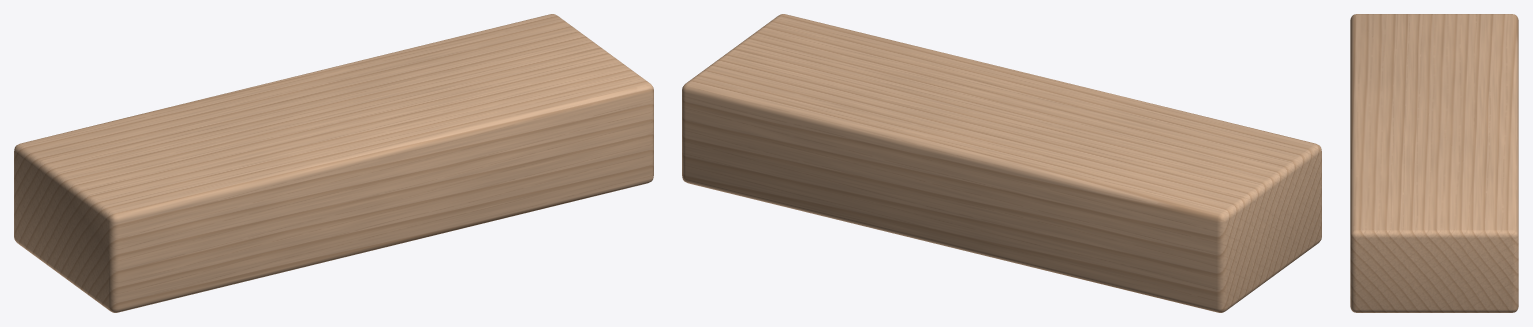
File: JengaBlock.fbx
3 renders of one model, left to right at view 1: azimuth 30°, elevation 25°; view 2: azimuth 150°, elevation 25°; view 3: azimuth 270°, elevation 25°, orthographic. The views are drawn at different scales.
Parts seen in each view (by area): view 1: JengaBlock; view 2: JengaBlock; view 3: JengaBlock.
Boxes of the visible parts, left/top/right/bottom form: JengaBlock: left=14, top=14, right=653, bottom=312; JengaBlock: left=682, top=14, right=1321, bottom=312; JengaBlock: left=1350, top=14, right=1518, bottom=312.
Bounding box in the file's own units: 5 × 0.875 × 1.61.
2 materials, 2 textured.
